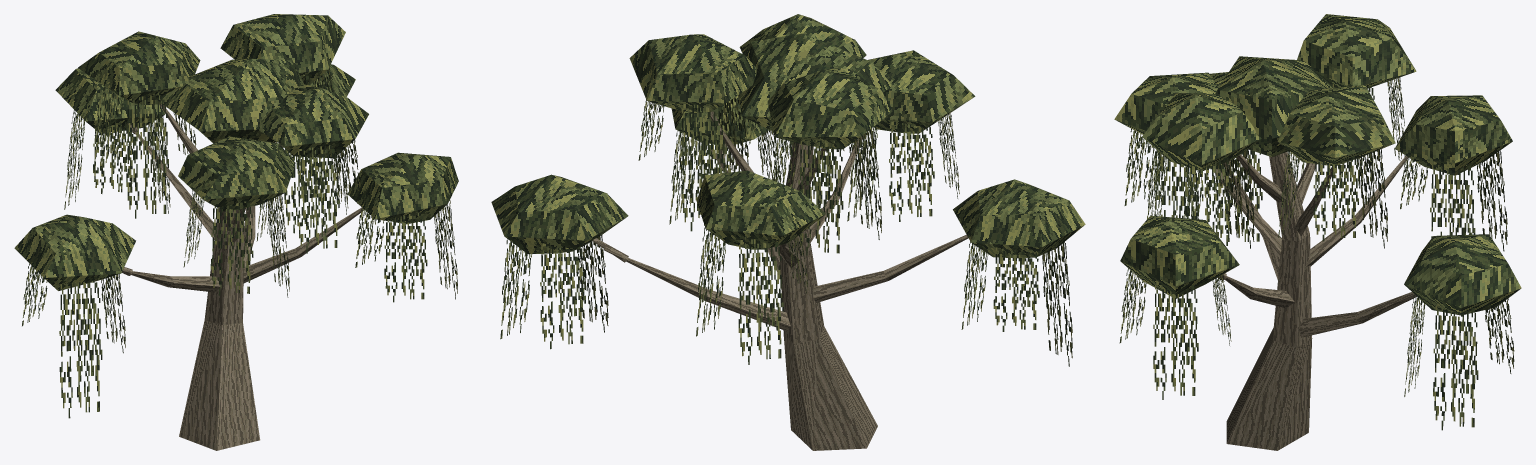
File: TREE_Willow_A_LOD2.glb
The picture shows the model from 3 angles, left to right: view 1: azimuth 30°, elevation 25°; view 2: azimuth 150°, elevation 25°; view 3: azimuth 270°, elevation 25°; orthographic projection. The views are drawn at different scales.
Visible parts, largest first — view 1: TREE_Willow_A_LOD2__Foliage, TREE_Willow_A_LOD2__Card, TREE_Willow_A_LOD2__Bark; view 2: TREE_Willow_A_LOD2__Foliage, TREE_Willow_A_LOD2__Card, TREE_Willow_A_LOD2__Bark; view 3: TREE_Willow_A_LOD2__Foliage, TREE_Willow_A_LOD2__Card, TREE_Willow_A_LOD2__Bark.
Boxes of the visible parts, left/top/right/bottom form: TREE_Willow_A_LOD2__Foliage: left=14, top=14, right=458, bottom=290; TREE_Willow_A_LOD2__Card: left=22, top=67, right=457, bottom=418; TREE_Willow_A_LOD2__Bark: left=122, top=104, right=363, bottom=450; TREE_Willow_A_LOD2__Foliage: left=491, top=14, right=1085, bottom=258; TREE_Willow_A_LOD2__Card: left=500, top=95, right=1072, bottom=366; TREE_Willow_A_LOD2__Bark: left=592, top=111, right=968, bottom=450; TREE_Willow_A_LOD2__Foliage: left=1114, top=14, right=1521, bottom=315; TREE_Willow_A_LOD2__Card: left=1119, top=77, right=1514, bottom=430; TREE_Willow_A_LOD2__Bark: left=1214, top=152, right=1416, bottom=450.
Size of the model in its own units: 10.95 by 9.05 by 8.42.
3 materials, 3 textured.
